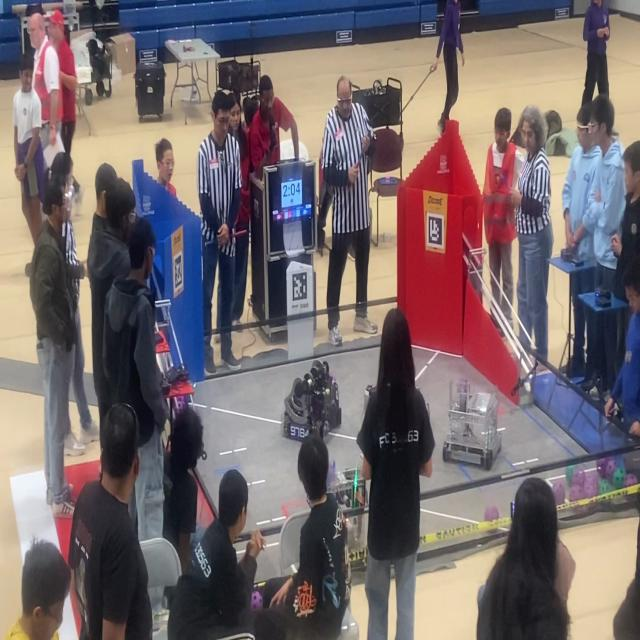artifact_purple: (552, 481, 565, 505), (584, 476, 598, 498), (612, 467, 625, 489), (605, 459, 617, 480), (566, 465, 577, 487), (597, 458, 609, 477), (570, 485, 584, 501), (251, 591, 262, 611), (485, 506, 499, 521), (599, 479, 612, 495), (624, 473, 638, 487), (573, 469, 585, 485)
